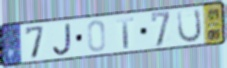0: (86, 19, 107, 53)
7: (149, 10, 172, 49), (24, 25, 47, 61)
J: (52, 22, 73, 56)
T: (116, 15, 136, 49)
U: (176, 7, 203, 44)
